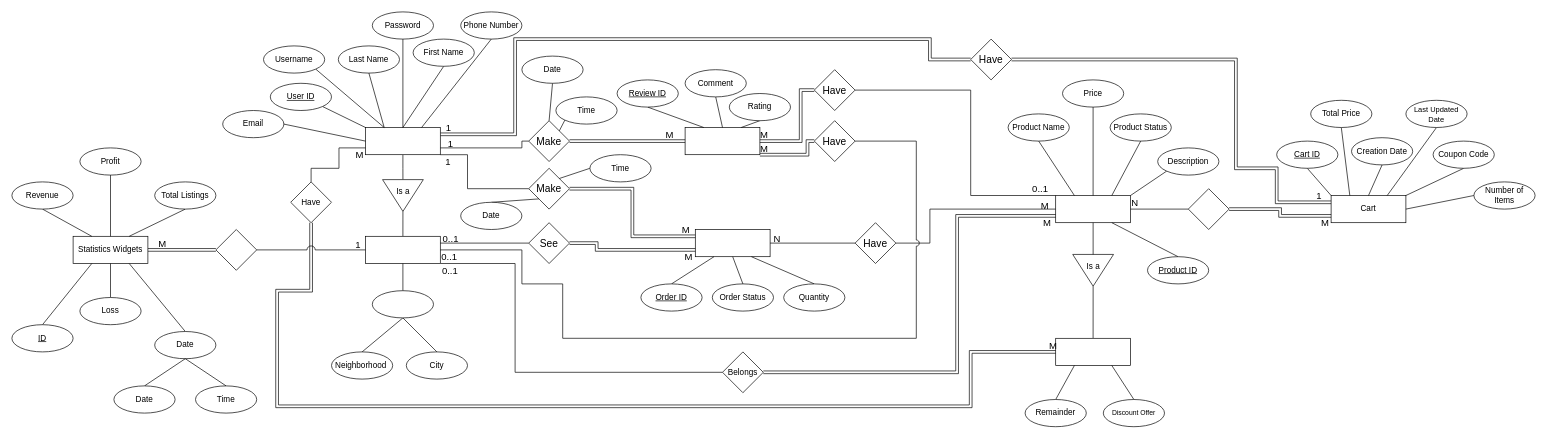
This 1547x439 diagram has some shape labels left out. Here are the shapes that lost their labels. From the top down, the centre of each, then its label:
point 402,141: User
point 722,141: Review
point 1092,209: Product
point 1208,209: In
point 236,249: View
point 402,250: Seller/Vendor
point 732,243: Order
point 403,304: Location
point 1092,352: Wish Item
